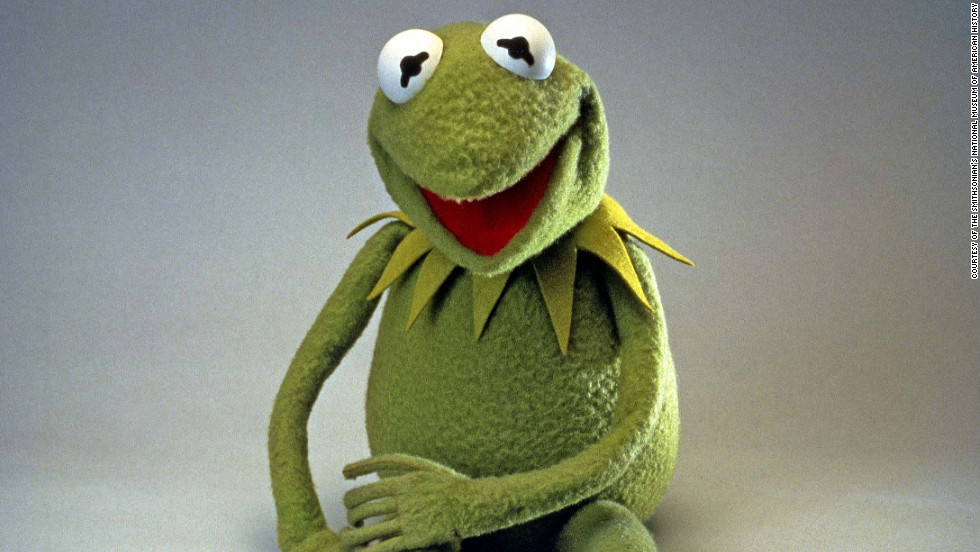kermit: (359, 13, 632, 281)
